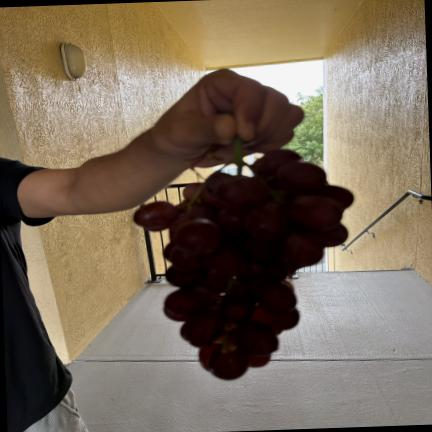grape_cluster: (135, 139, 353, 379)
